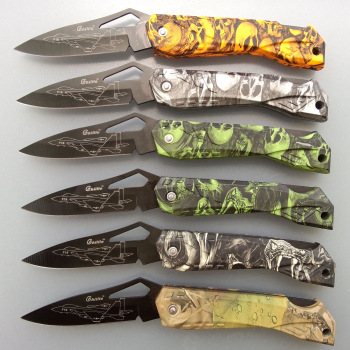knief: (13, 9, 327, 68), (18, 286, 342, 343)
